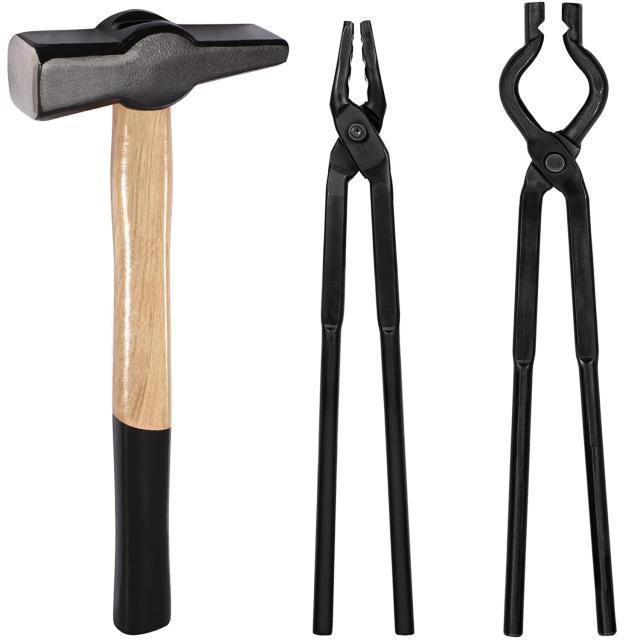hammer: (5, 3, 293, 640)
